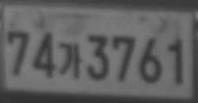1: (165, 38, 187, 84)
3: (87, 34, 109, 79)
4: (33, 33, 56, 78)
6: (139, 37, 162, 83)
7: (112, 35, 135, 82), (6, 31, 29, 75)
가: (59, 42, 81, 77)
